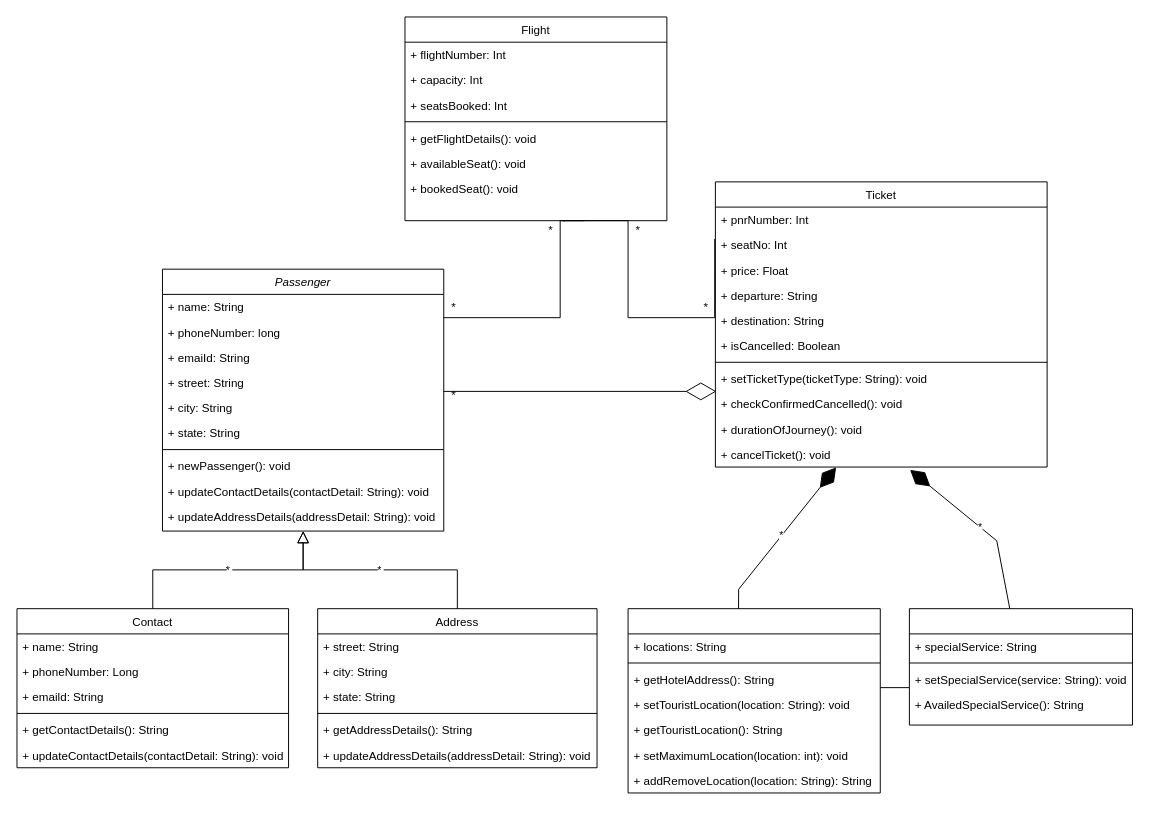
The diagram is 1149 pixels wide and 813 high, and some of its shapes have lost their labels. Here are the shapes that lost their labels. From the top down, the box of each, then its label:
(908, 608, 1132, 725): RegularTicket
(627, 608, 880, 793): TouristTicket
